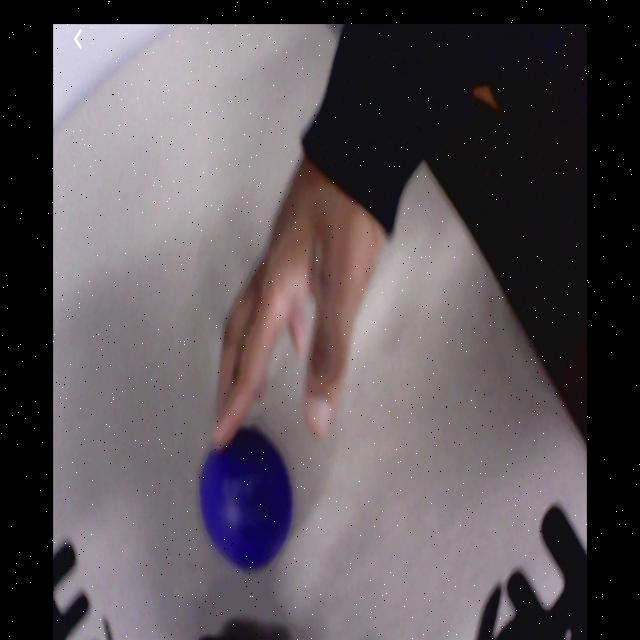ball: (203, 428, 294, 568)
